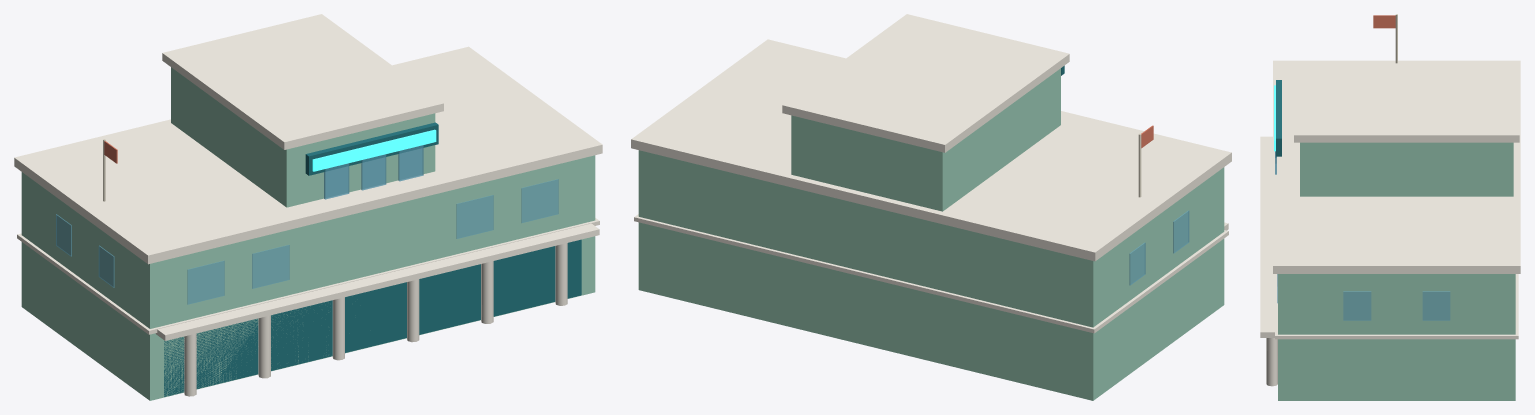
The model's file is lod_deco_hotel_c.glb.
3 renders of one model, left to right at view 1: azimuth 30°, elevation 25°; view 2: azimuth 150°, elevation 25°; view 3: azimuth 270°, elevation 25°, orthographic. The views are drawn at different scales.
Visible parts, largest first — view 1: lod_deco_hotel_c; view 2: lod_deco_hotel_c; view 3: lod_deco_hotel_c.
Boxes of the visible parts, left/top/right/bottom form: lod_deco_hotel_c: left=14, top=14, right=602, bottom=400; lod_deco_hotel_c: left=631, top=14, right=1231, bottom=400; lod_deco_hotel_c: left=1260, top=14, right=1520, bottom=400.
Size of the model in its own units: 24.5 by 11.2 by 13.15.
